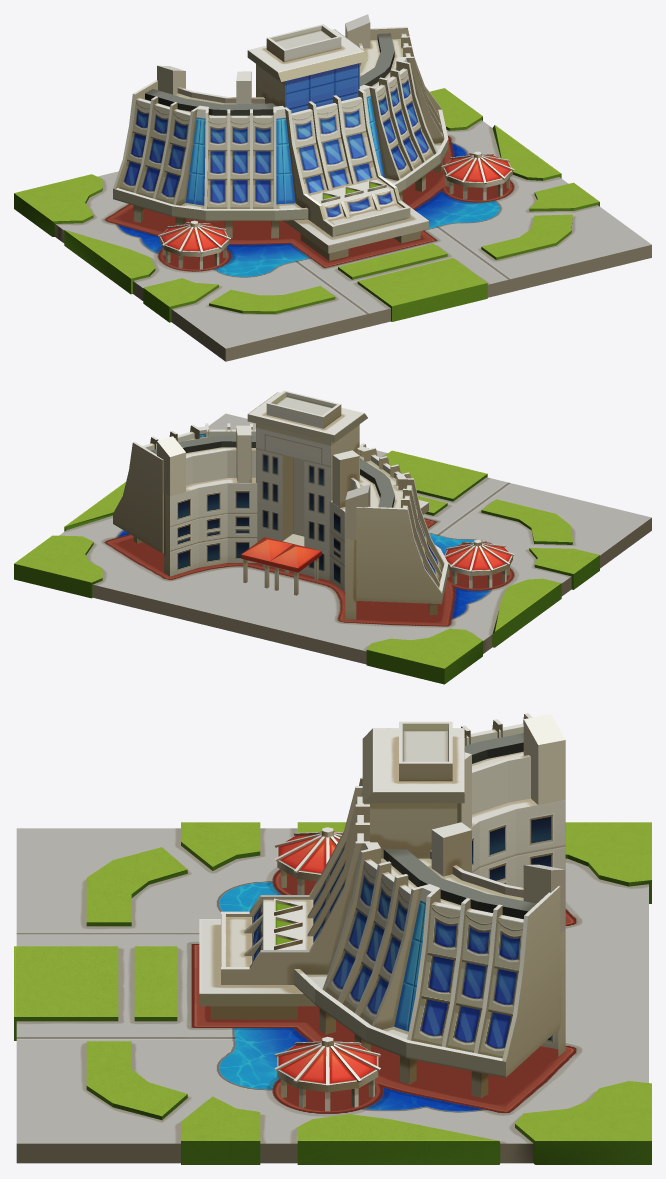
File: jiudian.FBX
3 renders of one model, top to bottom at view 1: azimuth 30°, elevation 25°; view 2: azimuth 150°, elevation 25°; view 3: azimuth 270°, elevation 25°, orthographic. The views are drawn at different scales.
Parts seen in each view (by area): view 1: jiudian; view 2: jiudian; view 3: jiudian.
Part boxes in pixels (x1,y1,x2,y2): jiudian: [14, 14, 651, 361]; jiudian: [14, 390, 651, 684]; jiudian: [14, 713, 651, 1164].
Bounding box in the file's own units: 2976 × 1146 × 2519.
Materials: 1 (1 with a texture image).
